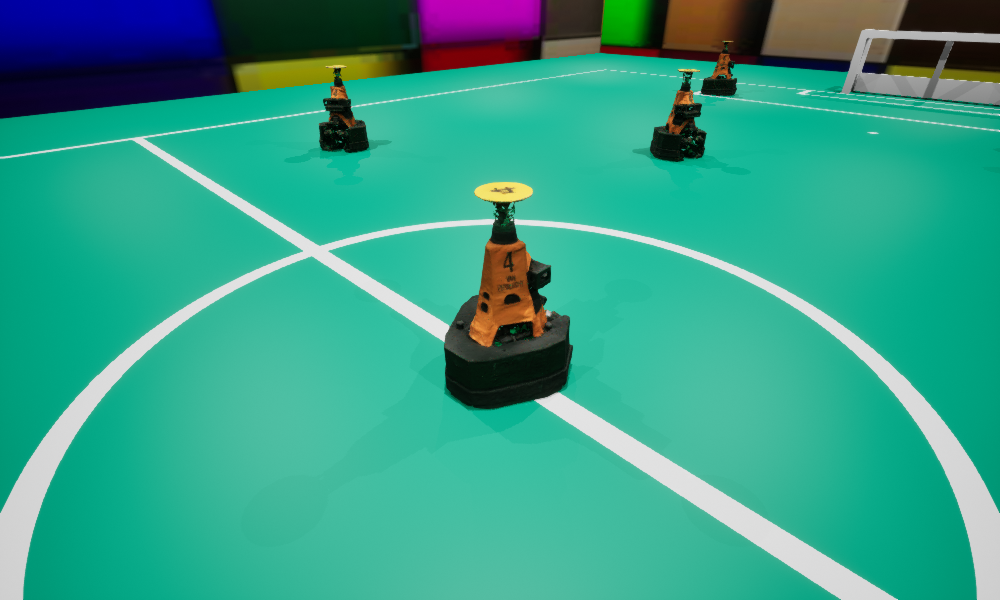o: (444, 182, 572, 408), (650, 69, 706, 161), (319, 65, 368, 151), (701, 41, 736, 95)
